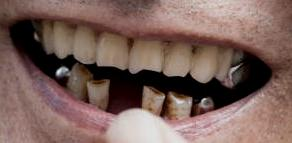Calculus: (161, 93, 191, 119), (139, 87, 165, 113), (84, 81, 107, 109)
Caries: (223, 61, 247, 86), (191, 97, 212, 115)
Hypodontia: (106, 83, 142, 115)
